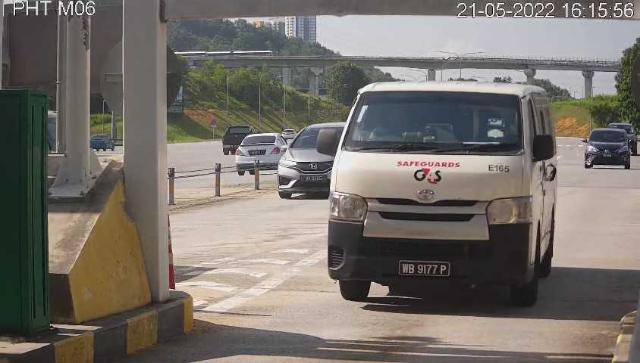License_Plate: (398, 261, 455, 282)
van: (330, 82, 557, 309)
